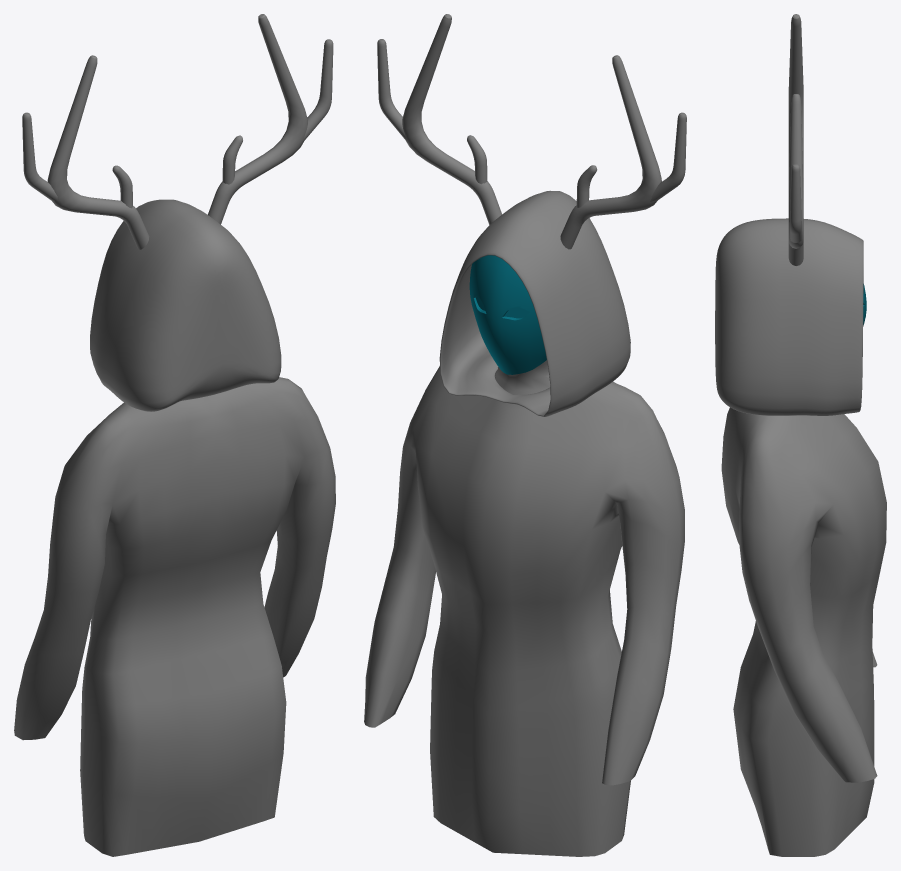
The model's file is DeerWalduś.fbx.
The picture shows the model from 3 angles, left to right: view 1: azimuth 30°, elevation 25°; view 2: azimuth 150°, elevation 25°; view 3: azimuth 270°, elevation 25°; orthographic projection. The views are drawn at different scales.
Visible parts, largest first — view 1: Walduś, Hood, Line001; view 2: Walduś, Hood, Line001, Mask001; view 3: Walduś, Hood, Line001.
Part boxes in pixels (box(x1,y1,x2,y2)): Walduś: box(14, 377, 335, 856); Hood: box(90, 199, 281, 411); Line001: box(22, 14, 333, 249); Walduś: box(364, 360, 684, 856); Hood: box(439, 190, 630, 416); Line001: box(377, 14, 686, 249); Mask001: box(469, 255, 546, 374); Walduś: box(721, 407, 886, 856); Hood: box(715, 218, 863, 415); Line001: box(788, 14, 803, 265).
Bounding box in the file's own units: 57.74 × 141 × 28.91.
